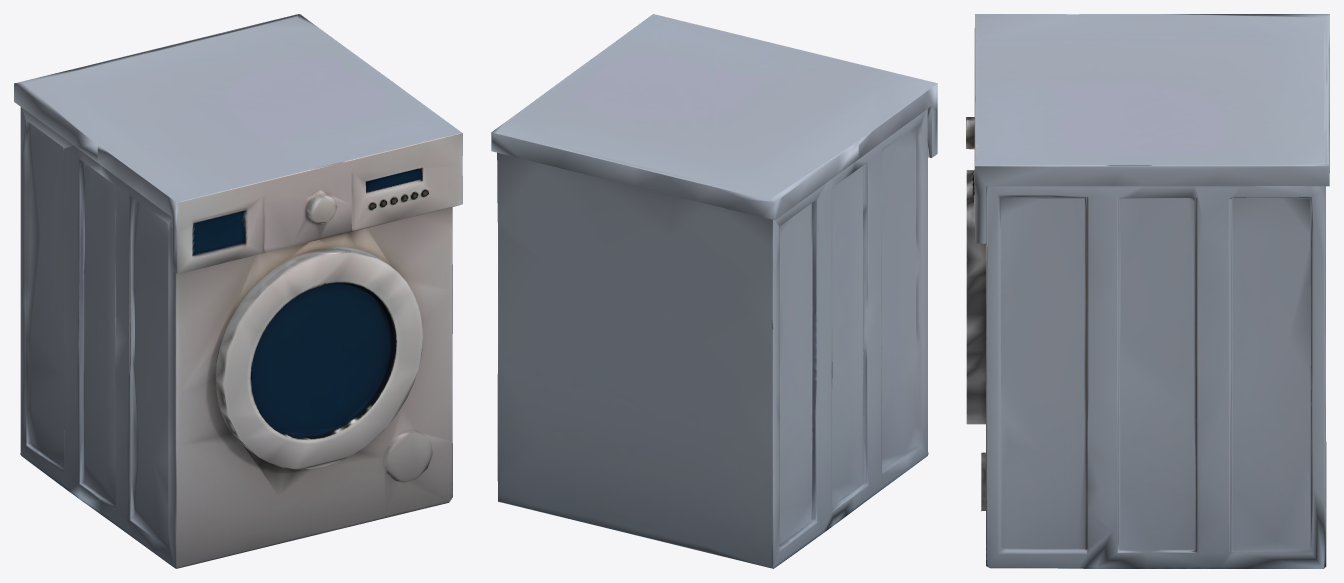
The model's file is lavadora.fbx.
3 views of the same model, side by side, from view 1: azimuth 30°, elevation 25°; view 2: azimuth 150°, elevation 25°; view 3: azimuth 270°, elevation 25° (orthographic). The views are drawn at different scales.
Visible parts, largest first — view 1: tripo_node_83bea610; view 2: tripo_node_83bea610; view 3: tripo_node_83bea610.
Part boxes in pixels (box(x1,y1,x2,y2)): tripo_node_83bea610: box(14, 14, 462, 568); tripo_node_83bea610: box(491, 14, 937, 568); tripo_node_83bea610: box(966, 14, 1329, 568).
Bounding box in the file's own units: 0.8046 × 0.9999 × 0.8135.
1 material, 1 textured.
